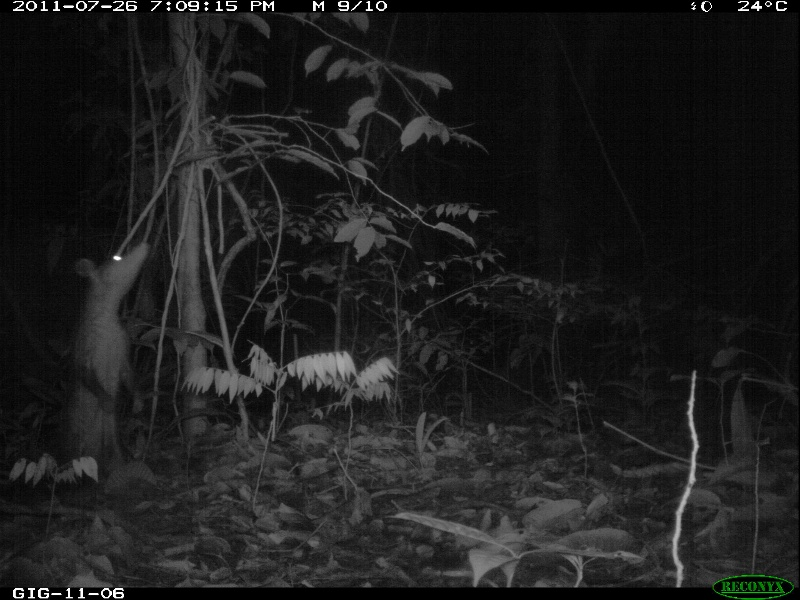opossum: (36, 230, 152, 461)
